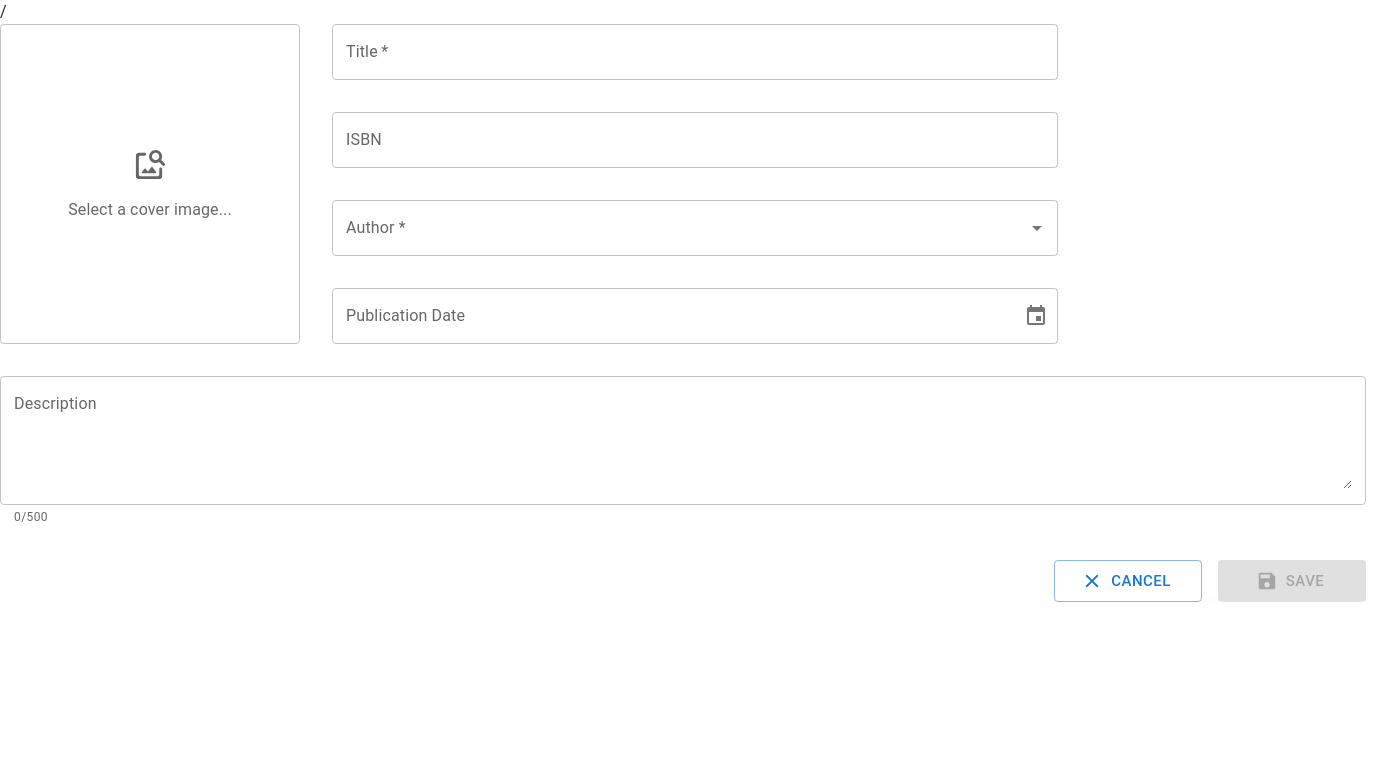
Test: BookForm › limits the description to 500 characters and shows a character counter
Expected: the text "0/500" is shown, [14, 510, 48, 524]
Type "Hello" into the text box labelled "Description" at [683, 440], box [14, 392, 1352, 488]
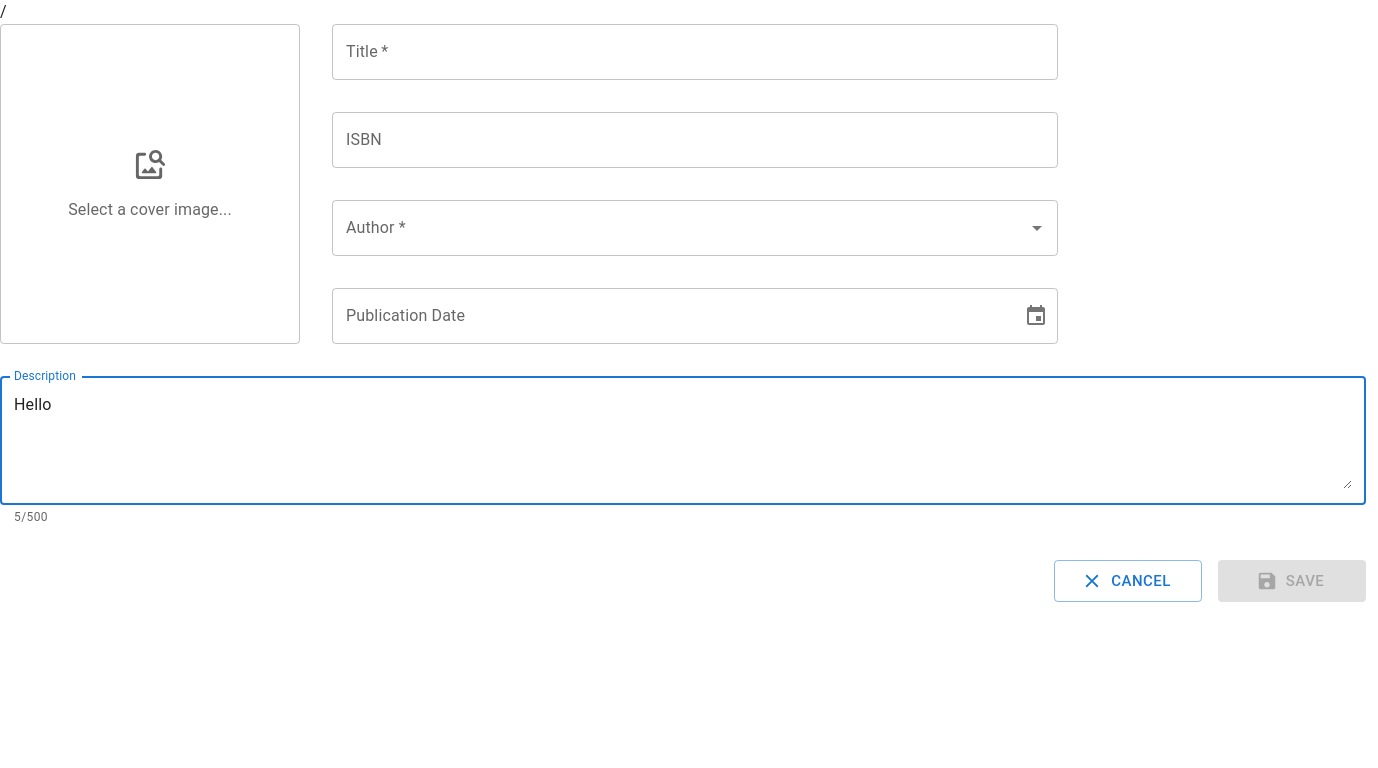
Result: the text "5/500" is shown at [14, 510, 48, 524]
